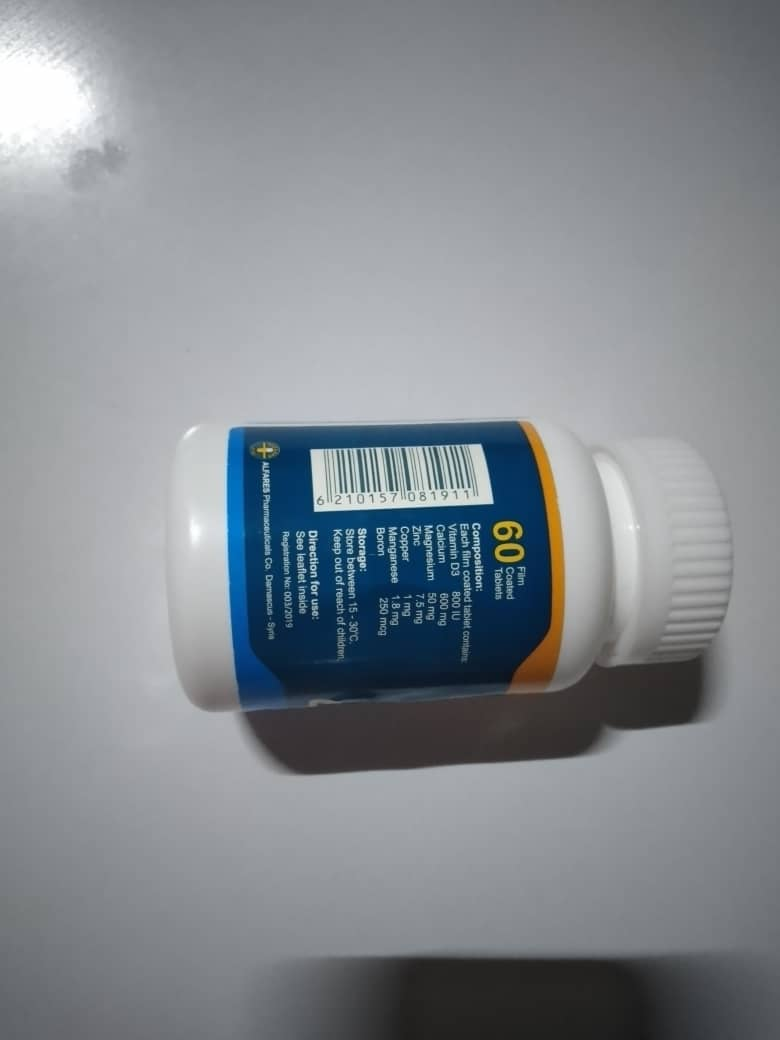Medicine: (153, 390, 737, 760)
